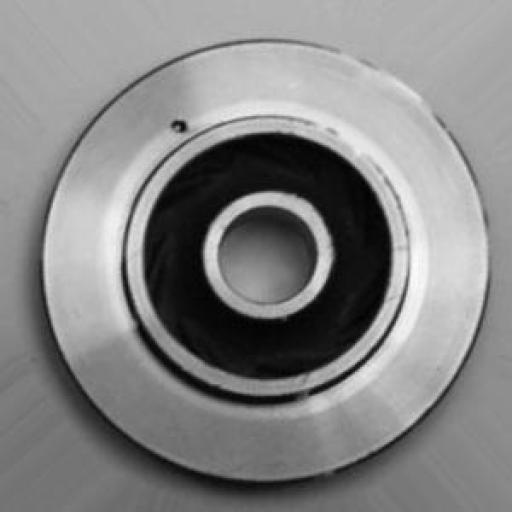defect: (138, 99, 212, 156)
